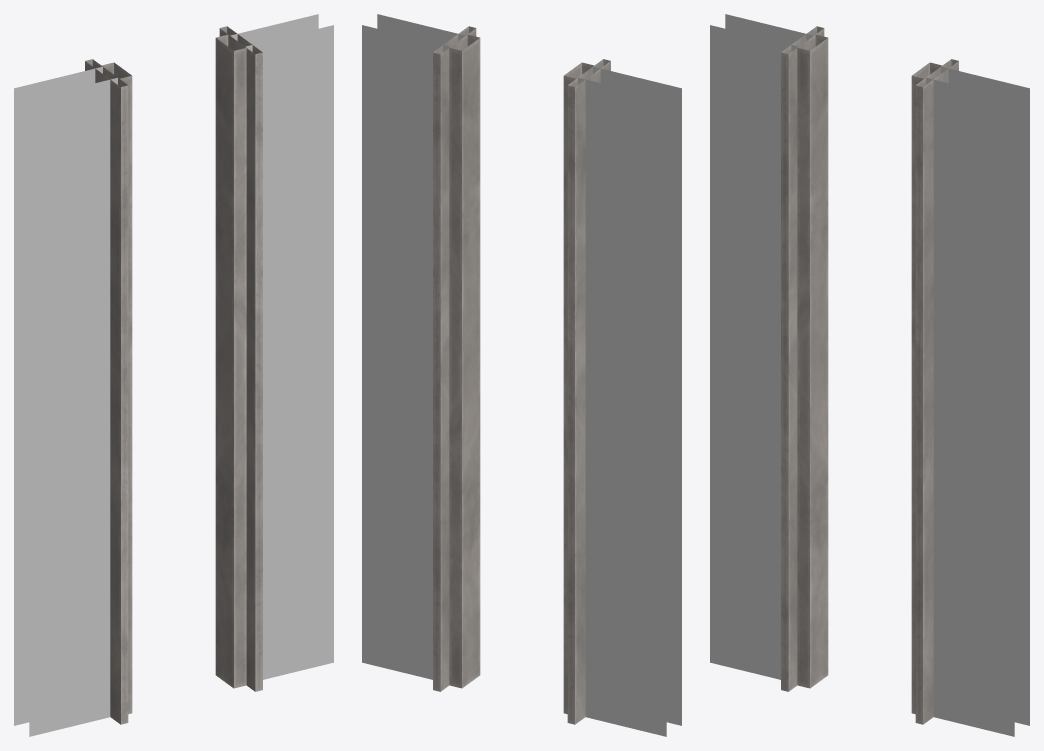
The model's file is Wall_D_D.fbx.
The picture shows the model from 3 angles, left to right: view 1: azimuth 30°, elevation 25°; view 2: azimuth 150°, elevation 25°; view 3: azimuth 330°, elevation 25°; orthographic projection.
Visible parts, largest first — view 1: Wall_D_D; view 2: Wall_D_D; view 3: Wall_D_D.
Part boxes in pixels (x1,y1,x2,y2): Wall_D_D: (14, 14, 333, 736); Wall_D_D: (362, 14, 681, 736); Wall_D_D: (710, 14, 1029, 736).
Size of the model in its own units: 3 by 0.6115 by 6.
